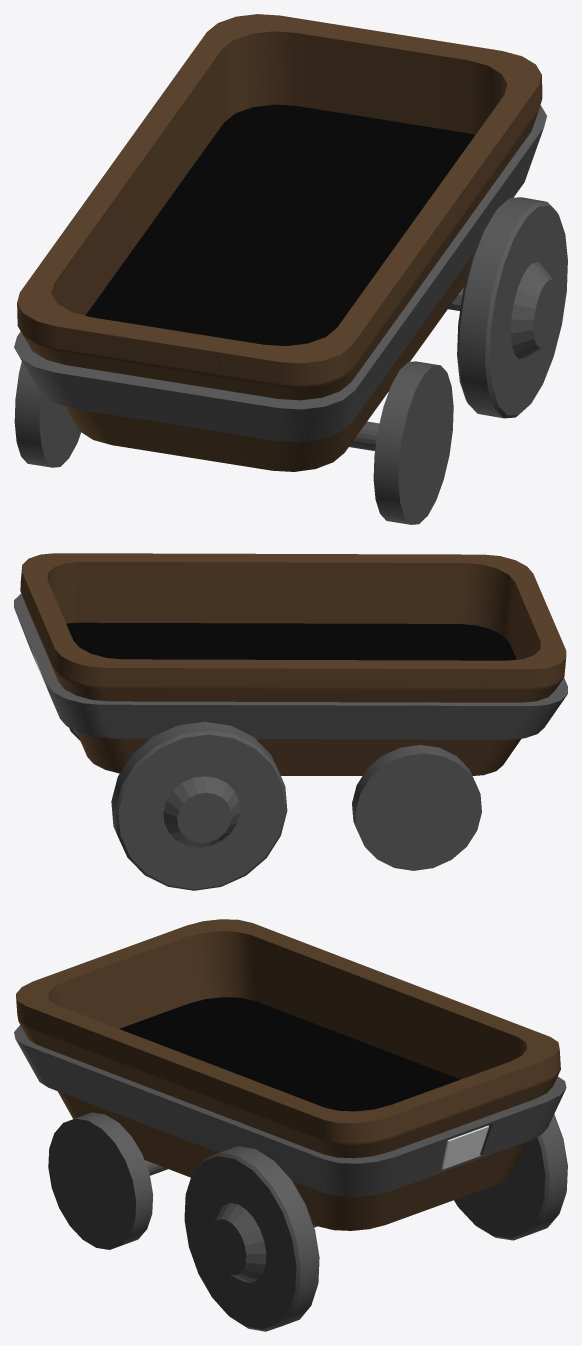
The model's file is MineCart.fbx.
3 renders of one model, top to bottom at view 1: azimuth 30°, elevation 25°; view 2: azimuth 150°, elevation 25°; view 3: azimuth 270°, elevation 25°, orthographic. The views are drawn at different scales.
Visible parts, largest first — view 1: pCylinder6; view 2: pCylinder6; view 3: pCylinder6.
Part boxes in pixels (box(x1,y1,x2,y2)): pCylinder6: box(14, 14, 567, 524); pCylinder6: box(14, 553, 567, 890); pCylinder6: box(14, 919, 567, 1331).
Size of the model in its own units: 6.3 by 2.82 by 5.97.
